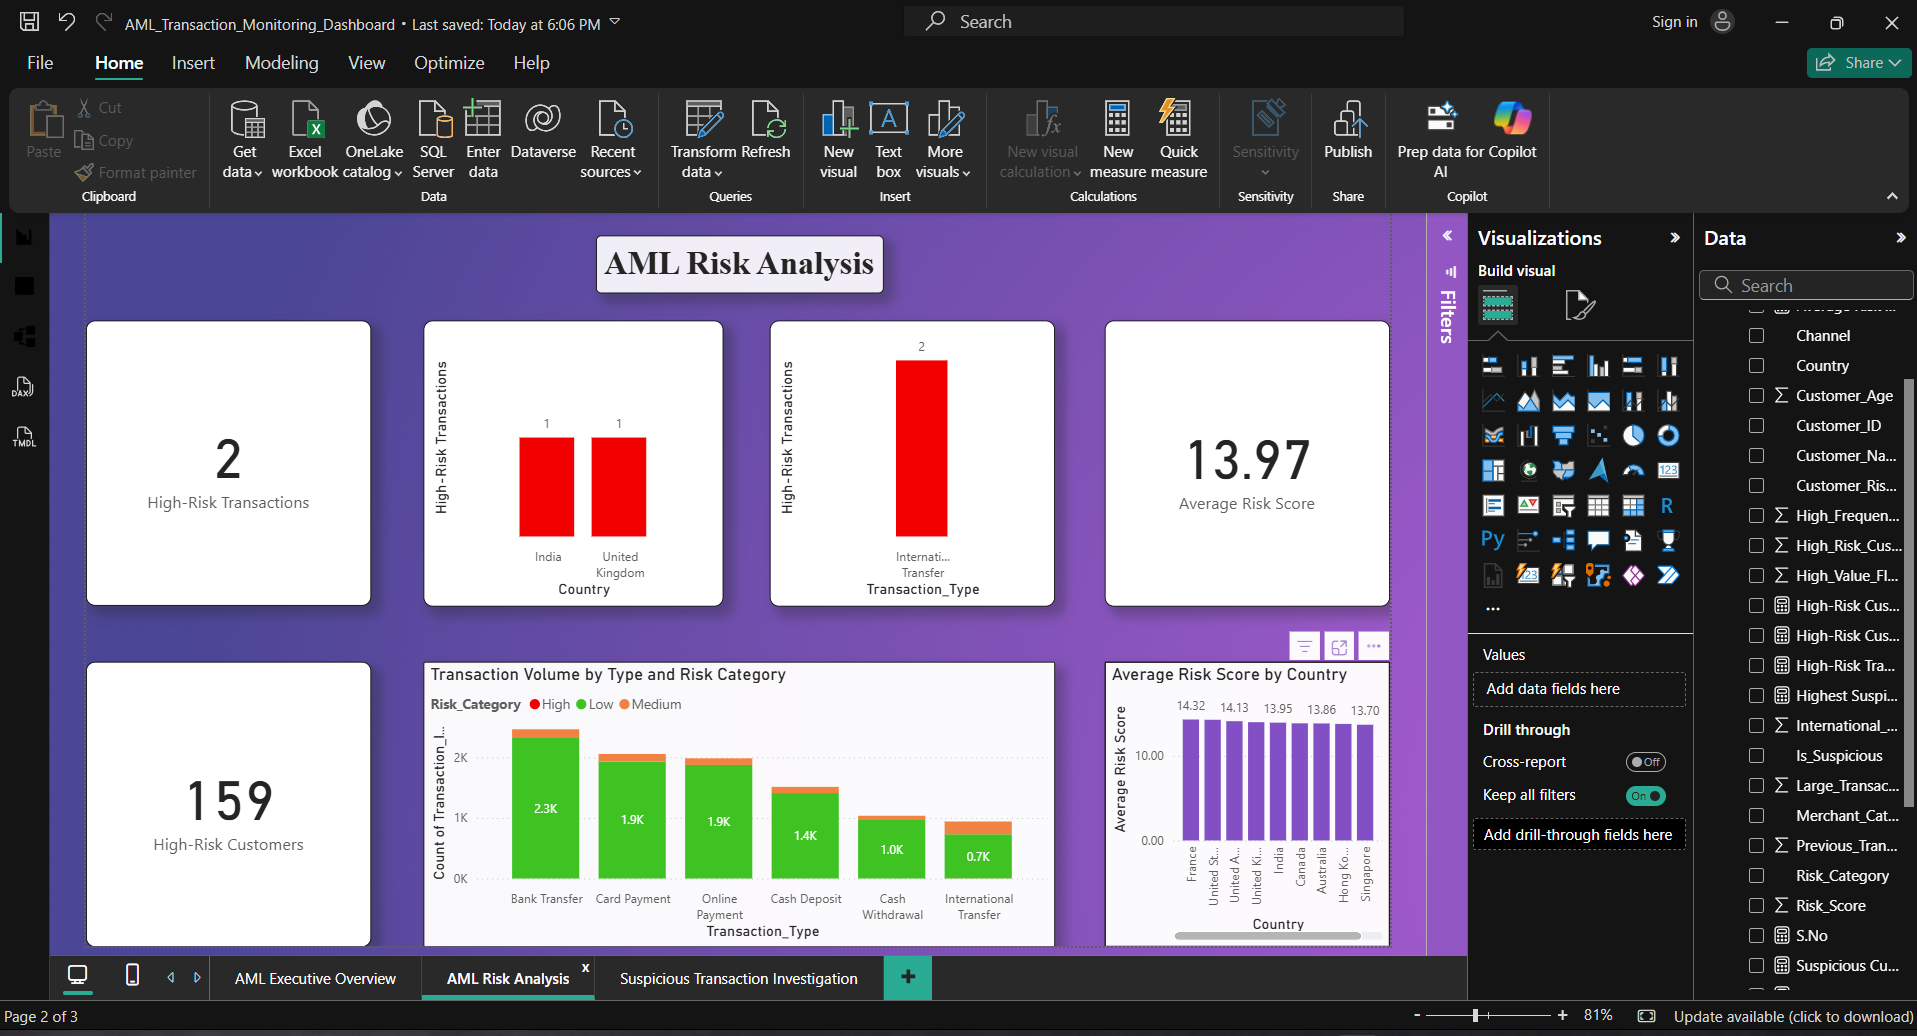

Layout of this report page (visuals, bound fields, positions):
{"tool":"powerbi","page":{"name":"AML Risk Analysis","canvas":[1280,720],"ordinal":1},"visuals":[{"type":"card","fields":{"Values":["aml_transactions.High-Risk Transactions"]},"box":[0,105.5,279.8,279.8],"z":0},{"type":"clusteredColumnChart","fields":{"Category":["aml_transactions.Country"],"Y":["aml_transactions.High-Risk Transactions"]},"box":[331.3,105.5,294.5,281],"z":1000},{"type":"clusteredColumnChart","fields":{"Category":["aml_transactions.Transaction_Type"],"Y":["aml_transactions.High-Risk Transactions"]},"box":[671.2,105.5,279.8,281],"z":2000},{"type":"card","fields":{"Values":["aml_transactions.Average Risk Score"]},"box":[1000,105.5,279.8,281],"z":3000},{"type":"card","fields":{"Values":["aml_transactions.High-Risk Customers"]},"box":[0,440.5,279.9,279.9],"z":4000},{"type":"columnChart","title":"Transaction Volume by Type and Risk Category","fields":{"Category":["aml_transactions.Transaction_Type"],"Series":["aml_transactions.Risk_Category"],"Y":["CountNonNull(aml_transactions.Transaction_ID)"]},"box":[330.7,440.5,620.2,279.9],"z":5000},{"type":"clusteredColumnChart","fields":{"Category":["aml_transactions.Country"],"Y":["aml_transactions.Average Risk Score"]},"box":[1000,440,280,280],"z":6000},{"type":"textbox","box":[500.6,22.1,282.2,56.4],"z":7000}]}

Visuals, with their boxes on the page's 1280x720 design canvas (x1, y1, x2, y2). These are canvas units, not pixel positions in the 1917x1036 screenshot, which may show the page scaled, cropped or inside an application window:
card - aml_transactions.High-Risk Transactions: 0,106,280,385
clusteredColumnChart - aml_transactions.Country x aml_transactions.High-Risk Transactions: 331,106,626,386
clusteredColumnChart - aml_transactions.Transaction_Type x aml_transactions.High-Risk Transactions: 671,106,951,386
card - aml_transactions.Average Risk Score: 1000,106,1280,386
card - aml_transactions.High-Risk Customers: 0,440,280,720
"Transaction Volume by Type and Risk Category" columnChart: 331,440,951,720
clusteredColumnChart - aml_transactions.Country x aml_transactions.Average Risk Score: 1000,440,1280,720
textbox: 501,22,783,78
